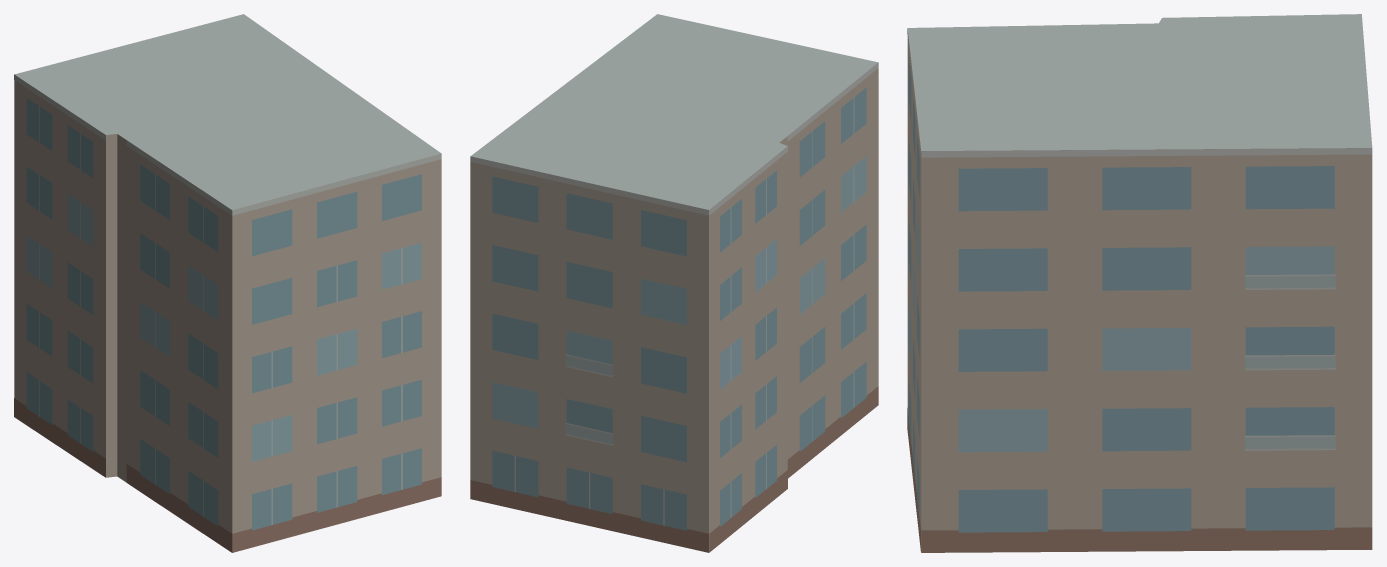
File: survey-upis-32688077.glb
3 views of the same model, side by side, from view 1: azimuth 30°, elevation 25°; view 2: azimuth 150°, elevation 25°; view 3: azimuth 270°, elevation 25° (orthographic). The views are drawn at different scales.
Visible parts, largest first — view 1: survey-upis-32688077.tmp; view 2: survey-upis-32688077.tmp; view 3: survey-upis-32688077.tmp.
Part boxes in pixels (left/top/right/bottom): survey-upis-32688077.tmp: left=14, top=14, right=441, bottom=552; survey-upis-32688077.tmp: left=470, top=14, right=878, bottom=552; survey-upis-32688077.tmp: left=907, top=14, right=1372, bottom=552.
Bounding box in the file's own units: 10.99 × 15 × 15.74.
